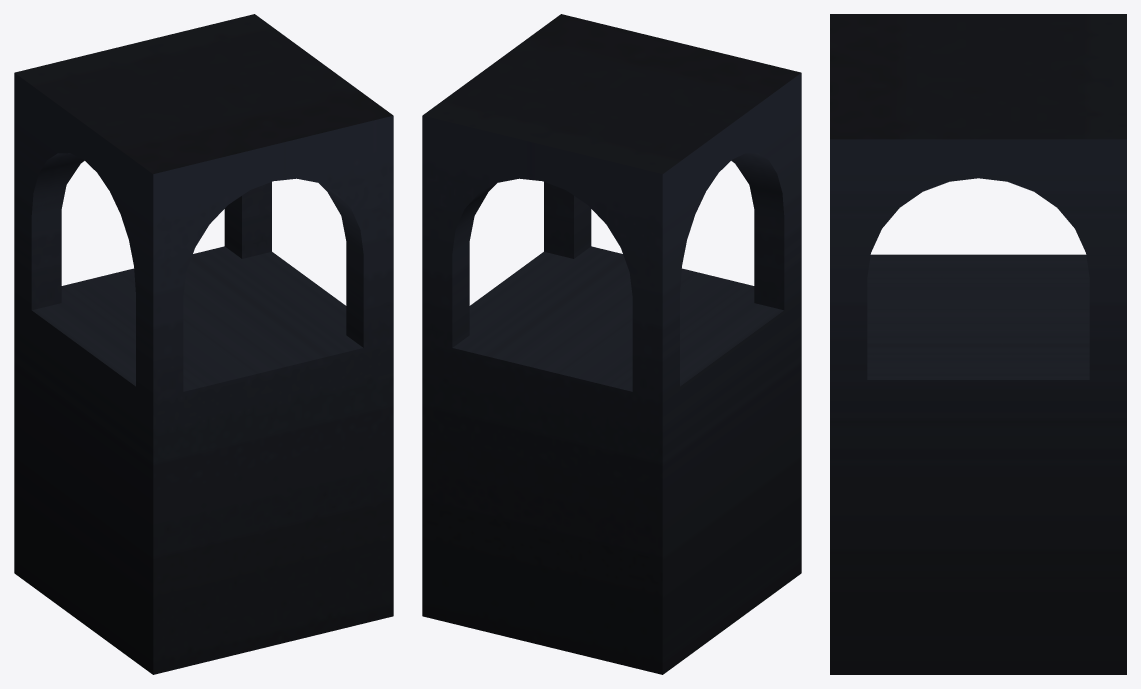
Rendered from sentryDevice.fbx.
3 renders of one model, left to right at view 1: azimuth 30°, elevation 25°; view 2: azimuth 150°, elevation 25°; view 3: azimuth 270°, elevation 25°, orthographic. The views are drawn at different scales.
Parts seen in each view (by area): view 1: Cube.001; view 2: Cube.001; view 3: Cube.001.
Boxes of the visible parts, x1,y1,x2,y2 form: Cube.001: [14, 14, 393, 674]; Cube.001: [422, 14, 801, 674]; Cube.001: [830, 14, 1126, 674].
Size of the model in its own units: 200 by 398 by 200.
